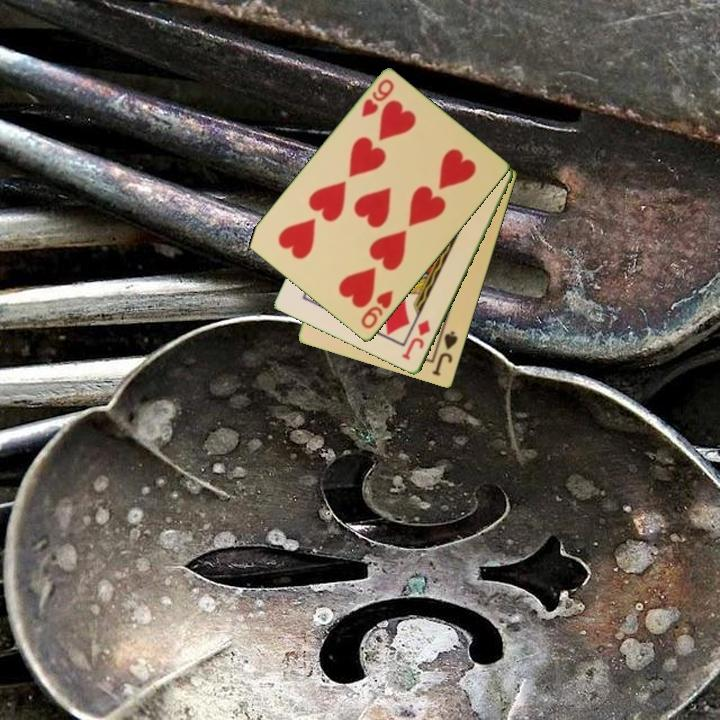9h: (357, 287, 396, 332), (358, 76, 397, 121)
Jd: (398, 316, 434, 363)
Js: (429, 328, 461, 379)
